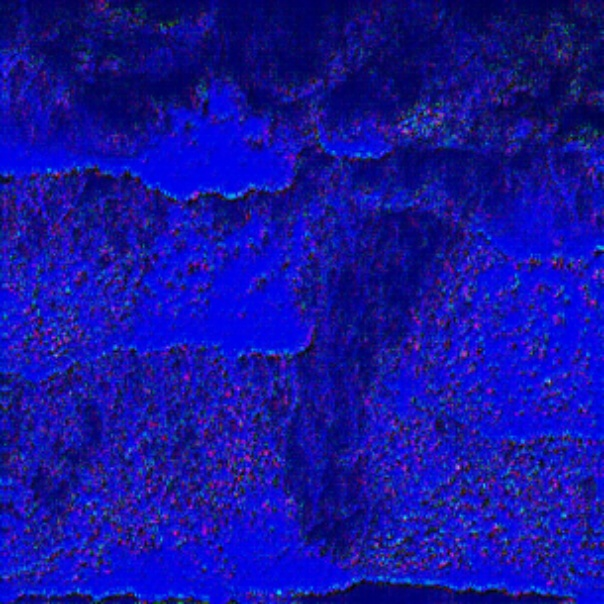rip_current: (212, 142, 456, 573)
